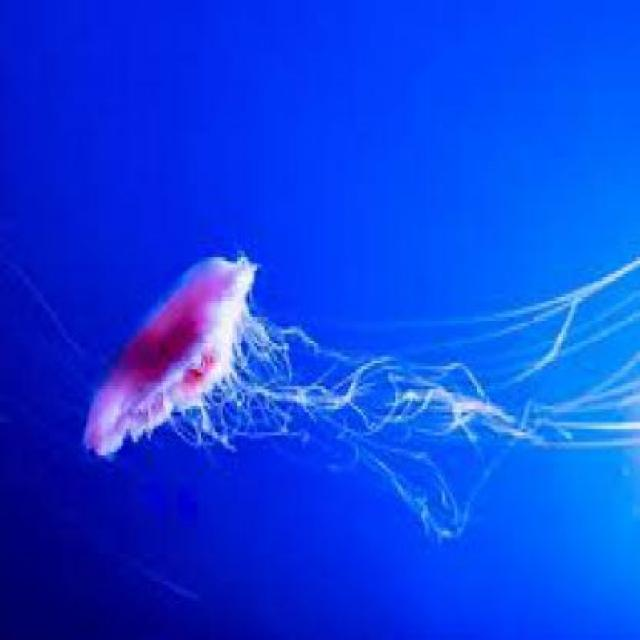Jellyfish: (76, 234, 638, 542)
